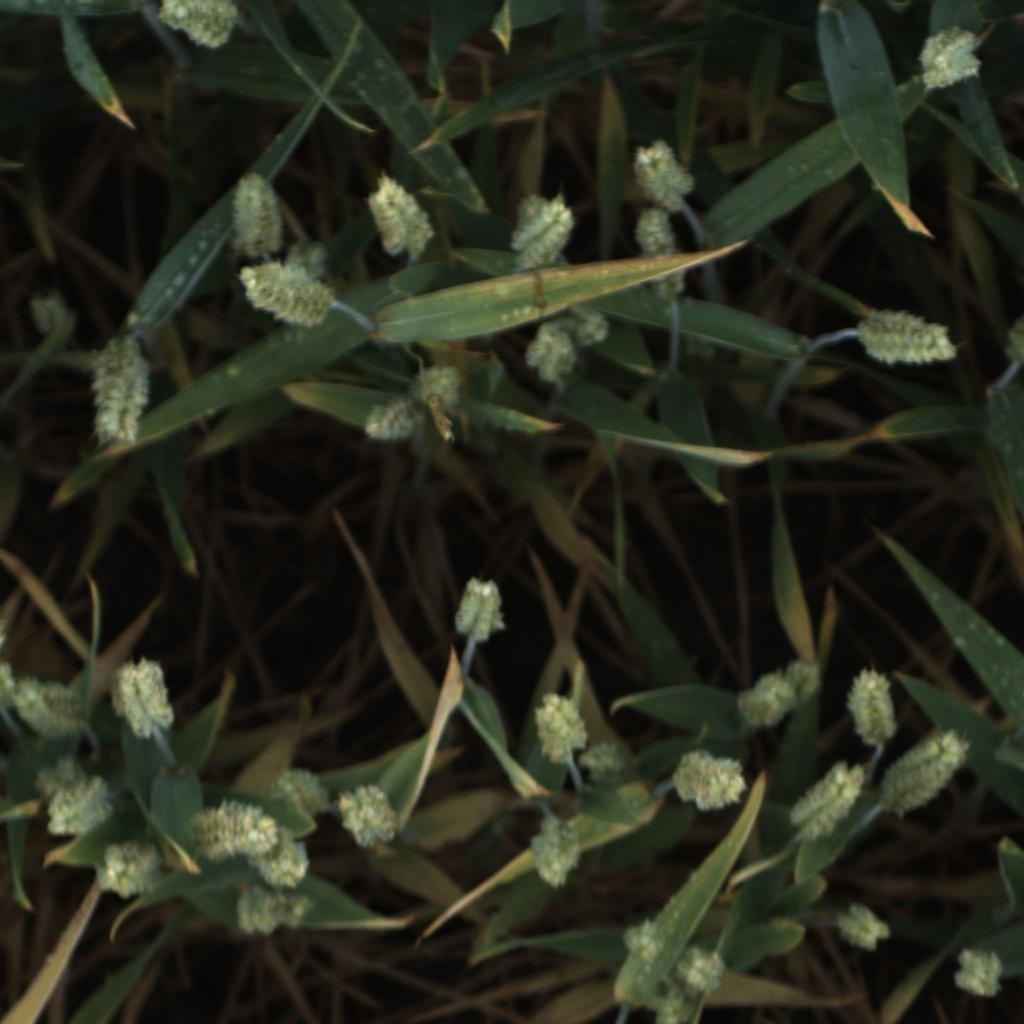0-0: (876, 728, 972, 819), (845, 297, 957, 374), (238, 254, 338, 335), (92, 329, 160, 448), (788, 754, 869, 846), (361, 169, 440, 261), (503, 187, 582, 277), (188, 795, 281, 865), (107, 649, 177, 741), (264, 754, 343, 835), (225, 166, 293, 256), (628, 210, 695, 300), (914, 19, 988, 97), (670, 748, 752, 818), (227, 879, 316, 943), (11, 673, 91, 743), (38, 769, 114, 842), (525, 691, 595, 770), (608, 906, 681, 981), (629, 138, 702, 208), (93, 834, 166, 904), (842, 662, 900, 749), (247, 817, 315, 890), (735, 663, 801, 738), (449, 568, 512, 646), (335, 781, 402, 854), (826, 899, 902, 957), (359, 388, 430, 450), (517, 318, 580, 387), (529, 819, 587, 893), (156, 0, 245, 48), (950, 941, 1011, 1003), (676, 938, 735, 999), (576, 735, 637, 789), (405, 361, 467, 410), (23, 288, 75, 343), (566, 305, 616, 353), (781, 652, 823, 709), (282, 238, 332, 285), (644, 985, 697, 1024), (996, 309, 1022, 365), (0, 661, 22, 712)
